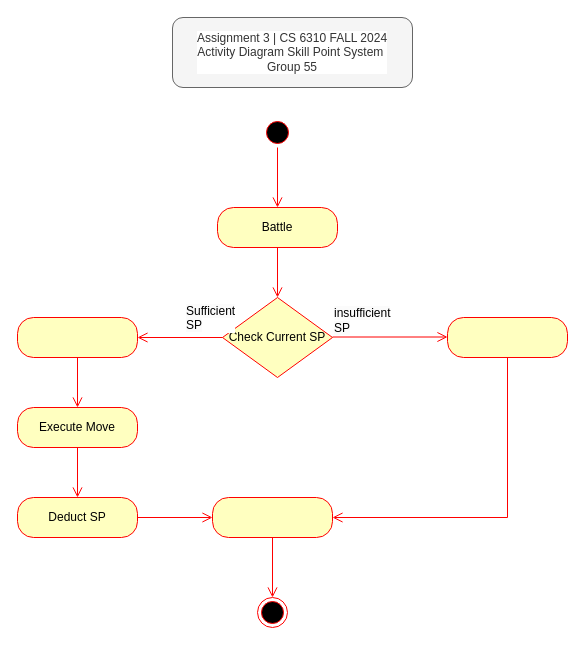
Some shapes in this 585 by 645 pixel diagram are drawn without their labels. The centre of each missing label's shape, as x and y in pixels:
Display "not enough SP": [507,337]
Restore SP: [272,517]
Select Move: [77,337]
